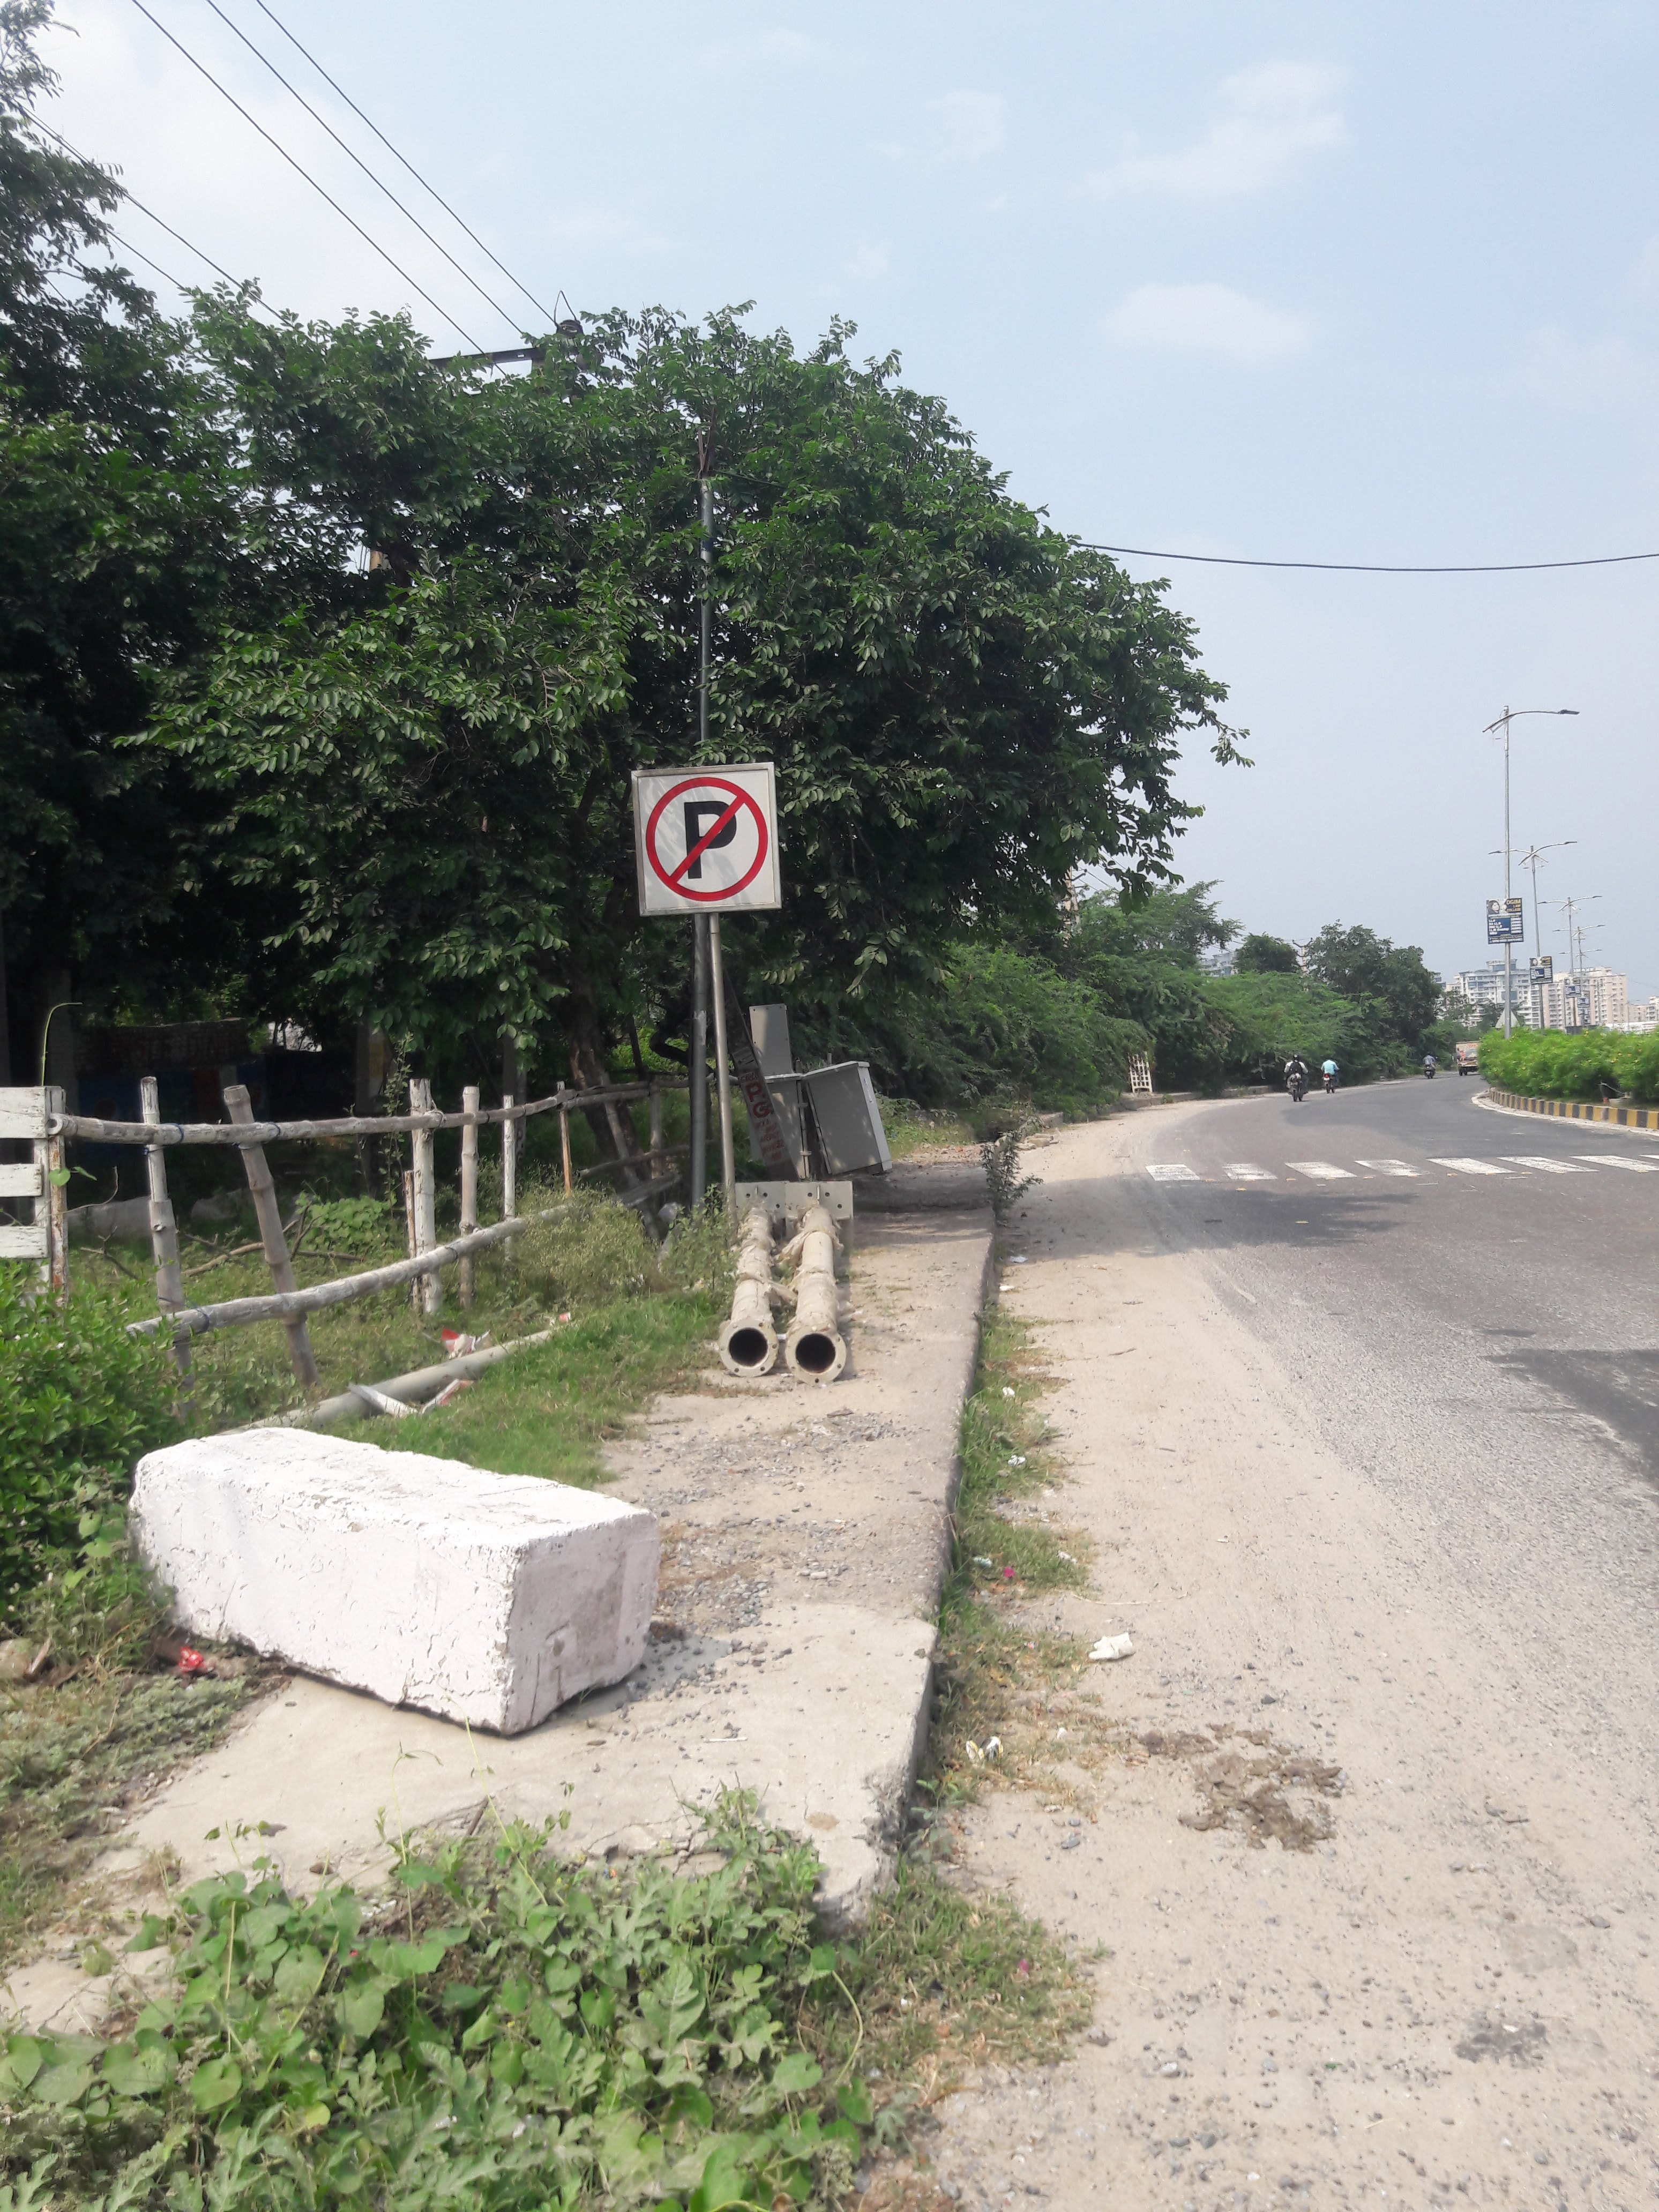traffic_sign: (631, 758, 782, 918)
